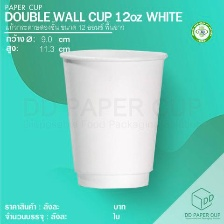paper_cup: (55, 44, 171, 192)
